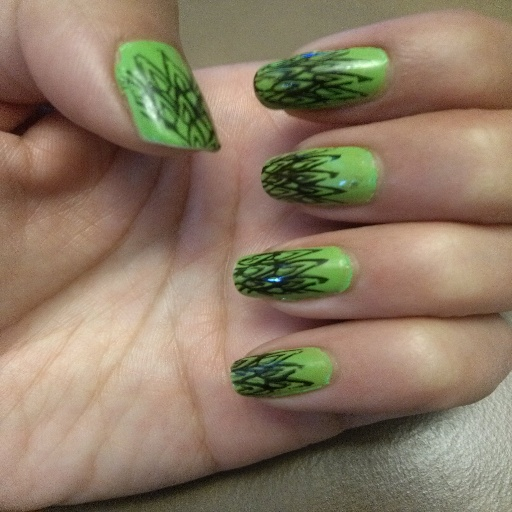hand: (0, 4, 500, 512)
